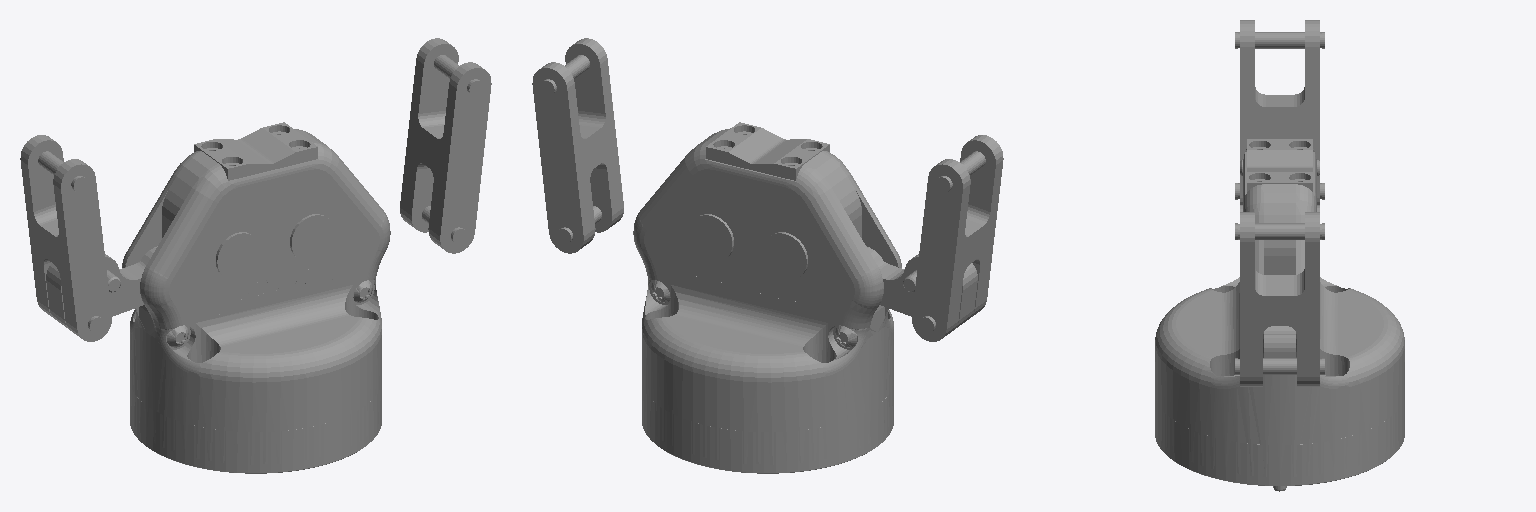
URDF robot description (robotiq-2-finger-85):
<?xml version="1.0" ?>
<robot name="robotiq-2-finger-85" xmlns:xacro="http://www.ros.org/wiki/xacro">

<link name="base_link">
</link>

<joint name="base_link_joint" type="fixed">
  <parent link="base_link"/>
  <child link="robotiq_85_coupling"/>
</joint>

<link name="robotiq_85_coupling">
  <visual>
    <geometry>
      <mesh filename="package://xamla_egomo/meshes/robotiq-2-finger-85/visual/gripper_coupling.dae"/>
    </geometry>
    <origin rpy="0 0 0" xyz="0 0 0"/>
  </visual>
  <collision>
    <geometry>
      <mesh filename="package://xamla_egomo/meshes/robotiq-2-finger-85/collision/gripper_coupling.stl"/>
    </geometry>
    <origin rpy="0 0 0" xyz="0 0 0"/>
  </collision>
</link>

<joint name="robotiq_85_base_joint" type="fixed">
  <parent link="robotiq_85_coupling"/>
  <child link="robotiq_85_base"/>
</joint>

<link name="robotiq_85_base">
  <visual>
    <geometry>
      <mesh filename="package://xamla_egomo/meshes/robotiq-2-finger-85/visual/gripper_base.dae"/>
    </geometry>
    <origin rpy="0 0 0" xyz="0 0 0"/>
  </visual>
  <collision>
    <geometry>
      <mesh filename="package://xamla_egomo/meshes/robotiq-2-finger-85/collision/gripper_base.stl"/>
    </geometry>
    <origin rpy="0 0 0" xyz="0 0 0"/>
  </collision>
</link>

<link name="robotiq_85_finger_left_1">
  <visual>
    <geometry>
      <mesh filename="package://xamla_egomo/meshes/robotiq-2-finger-85/visual/gripper_finger_left_1.dae"/>
    </geometry>
    <origin rpy="0 0 0" xyz="0.0305864 0 -0.0549191"/>
  </visual>
  <collision>
    <geometry>
      <mesh filename="package://xamla_egomo/meshes/robotiq-2-finger-85/collision/gripper_finger_left_1.stl"/>
    </geometry>
    <origin rpy="0 0 0" xyz="0.0305864 0 -0.0549191"/>
  </collision>
</link>

<link name="robotiq_85_finger_left_2">
  <visual>
    <geometry>
      <mesh filename="package://xamla_egomo/meshes/robotiq-2-finger-85/visual/gripper_finger_left_2.dae"/>
    </geometry>
    <origin rpy="0 0 0" xyz="0.0621231 0 -0.0511592"/>
  </visual>
  <collision>
    <geometry>
      <mesh filename="package://xamla_egomo/meshes/robotiq-2-finger-85/collision/gripper_finger_left_2.stl"/>
    </geometry>
    <origin rpy="0 0 0" xyz="0.0621231 0 -0.0511592"/>
  </collision>
</link>

<link name="robotiq_85_finger_left_3">
  <visual>
    <geometry>
      <mesh filename="package://xamla_egomo/meshes/robotiq-2-finger-85/visual/gripper_finger_left_3.dae"/>
    </geometry>
    <origin rpy="0 0 0" xyz="0.0127161 0 -0.0613987"/>
  </visual>
  <collision>
    <geometry>
      <mesh filename="package://xamla_egomo/meshes/robotiq-2-finger-85/collision/gripper_finger_left_3.stl"/>
    </geometry>
    <origin rpy="0 0 0" xyz="0.0127161 0 -0.0613987"/>
  </collision>
</link>

<link name="robotiq_85_finger_left_4">
  <visual>
    <geometry>
      <mesh filename="package://xamla_egomo/meshes/robotiq-2-finger-85/visual/gripper_finger_left_4.dae"/>
    </geometry>
    <origin rpy="0 0 0" xyz="0.0498492 0 -0.1048415"/>
  </visual>
  <collision>
    <geometry>
      <mesh filename="package://xamla_egomo/meshes/robotiq-2-finger-85/collision/gripper_finger_left_4.stl"/>
    </geometry>
    <origin rpy="0 0 0" xyz="0.0498492 0 -0.1048415"/>
  </collision>
</link>

<link name="robotiq_85_finger_right_1">
  <visual>
    <geometry>
      <mesh filename="package://xamla_egomo/meshes/robotiq-2-finger-85/visual/gripper_finger_right_1.dae"/>
    </geometry>
    <origin rpy="0 0 0" xyz="-0.0305864 0 -0.0549191"/>
  </visual>
  <collision>
    <geometry>
      <mesh filename="package://xamla_egomo/meshes/robotiq-2-finger-85/collision/gripper_finger_right_1.stl"/>
    </geometry>
    <origin rpy="0 0 0" xyz="-0.0305864 0 -0.0549191"/>
  </collision>
</link>

<link name="robotiq_85_finger_right_2">
  <visual>
    <geometry>
      <mesh filename="package://xamla_egomo/meshes/robotiq-2-finger-85/visual/gripper_finger_right_2.dae"/>
    </geometry>
    <origin rpy="0 0 0" xyz="-0.0621231 0 -0.0511592"/>
  </visual>
  <collision>
    <geometry>
      <mesh filename="package://xamla_egomo/meshes/robotiq-2-finger-85/collision/gripper_finger_right_2.stl"/>
    </geometry>
    <origin rpy="0 0 0" xyz="-0.0621231 0 -0.0511592"/>
  </collision>
</link>

<link name="robotiq_85_finger_right_3">
  <visual>
    <geometry>
      <mesh filename="package://xamla_egomo/meshes/robotiq-2-finger-85/visual/gripper_finger_right_3.dae"/>
    </geometry>
    <origin rpy="0 0 0" xyz="-0.0127161 0 -0.0613987"/>
  </visual>
  <collision>
    <geometry>
      <mesh filename="package://xamla_egomo/meshes/robotiq-2-finger-85/collision/gripper_finger_right_3.stl"/>
    </geometry>
    <origin rpy="0 0 0" xyz="-0.0127161 0 -0.0613987"/>
  </collision>
</link>

<link name="robotiq_85_finger_right_4">
  <visual>
    <geometry>
      <mesh filename="package://xamla_egomo/meshes/robotiq-2-finger-85/visual/gripper_finger_right_4.dae"/>
    </geometry>
    <origin rpy="0 0 0" xyz="-0.0498492 0 -0.1048415"/>
  </visual>
  <collision>
    <geometry>
      <mesh filename="package://xamla_egomo/meshes/robotiq-2-finger-85/collision/gripper_finger_right_4.stl"/>
    </geometry>
    <origin rpy="0 0 0" xyz="-0.0498492 0 -0.1048415"/>
  </collision>
</link>

<joint name="robotiq_85_finger_left_1_joint" type="revolute">
  <parent link="robotiq_85_base"/>
  <child link="robotiq_85_finger_left_1"/>
  <axis xyz="0 1 0"/>
  <origin rpy="0 0 0" xyz="-0.0305864 0 0.0549191"/>
  <limit effort="1000" lower="0" upper="0.811" velocity="2.0"/>
</joint>

<joint name="robotiq_85_finger_left_2_joint" type="fixed">
  <parent link="robotiq_85_finger_left_1"/>
  <child link="robotiq_85_finger_left_2"/>
  <axis xyz="0 1 0"/>
  <origin rpy="0 0 0" xyz="-0.0315367 0 -0.0037599"/>
</joint>

<joint name="robotiq_85_finger_left_3_joint" type="revolute">
  <parent link="robotiq_85_base"/>
  <child link="robotiq_85_finger_left_3"/>
  <axis xyz="0 1 0"/>
  <origin rpy="0 0 0" xyz="-0.0127161 0 0.0613987"/>
  <limit effort="1000" lower="0" upper="0.811" velocity="2.0"/>
  <mimic joint="robotiq_85_finger_left_1_joint" multiplier="1"/>
</joint>

<joint name="robotiq_85_finger_left_4_joint" type="revolute">
  <parent link="robotiq_85_finger_left_3"/>
  <child link="robotiq_85_finger_left_4"/>
  <axis xyz="0 1 0"/>
  <origin rpy="0 0 0" xyz="-0.0371331 0 0.0434428"/>
  <mimic joint="robotiq_85_finger_left_1_joint" multiplier="-1"/>
  <limit effort="1000" lower="-0.811" upper="0" velocity="2.0"/>
</joint>

<joint name="robotiq_85_finger_right_1_joint" type="revolute">
  <parent link="robotiq_85_base"/>
  <child link="robotiq_85_finger_right_1"/>
  <axis xyz="0 1 0"/>
  <origin rpy="0 0 0" xyz="0.0305864 0 0.0549191"/>
  <mimic joint="robotiq_85_finger_left_1_joint" multiplier="-1"/>
  <limit effort="1000" lower="-0.811" upper="0" velocity="2.0"/>
</joint>

<joint name="robotiq_85_finger_right_2_joint" type="fixed">
  <parent link="robotiq_85_finger_right_1"/>
  <child link="robotiq_85_finger_right_2"/>
  <axis xyz="0 1 0"/>
  <origin rpy="0 0 0" xyz="0.0315367 0 -0.0037599"/>
</joint>

<joint name="robotiq_85_finger_right_3_joint" type="revolute">
  <parent link="robotiq_85_base"/>
  <child link="robotiq_85_finger_right_3"/>
  <axis xyz="0 1 0"/>
  <origin rpy="0 0 0" xyz="0.0127161 0 0.0613987"/>
  <mimic joint="robotiq_85_finger_left_1_joint" multiplier="-1"/>
  <limit effort="1000" lower="-0.811" upper="0" velocity="2.0"/>
</joint>

<joint name="robotiq_85_finger_right_4_joint" type="revolute">
  <parent link="robotiq_85_finger_right_3"/>
  <child link="robotiq_85_finger_right_4"/>
  <axis xyz="0 1 0"/>
  <origin rpy="0 0 0" xyz="0.0371331 0 0.0434428"/>
  <mimic joint="robotiq_85_finger_left_1_joint" multiplier="1"/>
  <limit effort="1000" lower="0" upper="0.811" velocity="2.0"/>
</joint>

</robot>

--- What the picture shows (computed from the rendered views, not written in the file) ---
The picture shows the robot from 3 angles, left to right: view 1: azimuth 30°, elevation 25°; view 2: azimuth 150°, elevation 25°; view 3: azimuth 270°, elevation 25°; orthographic projection.
Model robotiq-2-finger-85 with 11 links and 10 joints (6 revolute, 4 fixed), rooted at base_link, posed every joint at zero.
Links seen in each view (by area): view 1: robotiq_85_base, robotiq_85_finger_left_2, robotiq_85_finger_right_2, robotiq_85_coupling, robotiq_85_finger_left_1; view 2: robotiq_85_base, robotiq_85_finger_left_2, robotiq_85_finger_right_2, robotiq_85_coupling, robotiq_85_finger_left_1; view 3: robotiq_85_base, robotiq_85_finger_left_2, robotiq_85_coupling, robotiq_85_finger_right_2.
Boxes of the visible links, <box> form: robotiq_85_base: <box>122,122,390,464</box>; robotiq_85_finger_left_2: <box>400,38,491,253</box>; robotiq_85_finger_right_2: <box>20,135,111,341</box>; robotiq_85_coupling: <box>130,385,381,473</box>; robotiq_85_finger_left_1: <box>46,246,157,330</box>; robotiq_85_base: <box>633,122,901,464</box>; robotiq_85_finger_left_2: <box>532,38,623,253</box>; robotiq_85_finger_right_2: <box>912,135,1003,341</box>; robotiq_85_coupling: <box>642,385,893,473</box>; robotiq_85_finger_left_1: <box>866,246,977,330</box>; robotiq_85_base: <box>1155,139,1404,491</box>; robotiq_85_finger_left_2: <box>1235,212,1324,386</box>; robotiq_85_coupling: <box>1155,401,1404,485</box>; robotiq_85_finger_right_2: <box>1235,20,1324,204</box>.
Size in the robot's own frame: 0.1474 by 0.075 by 0.1083 metres.
Meshes: 10 distinct files referenced, 5 mesh visuals loaded (5 Collada DAE); not drawn: 5 (reference not matched to a file when rendering).